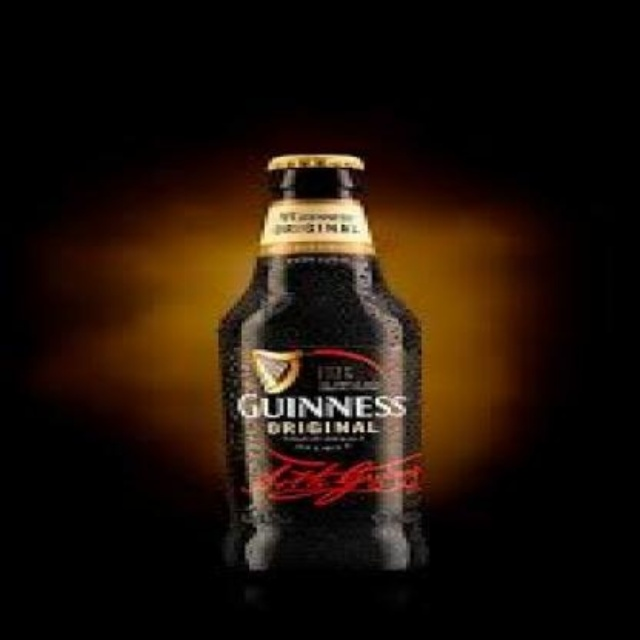trash: (218, 154, 426, 569)
